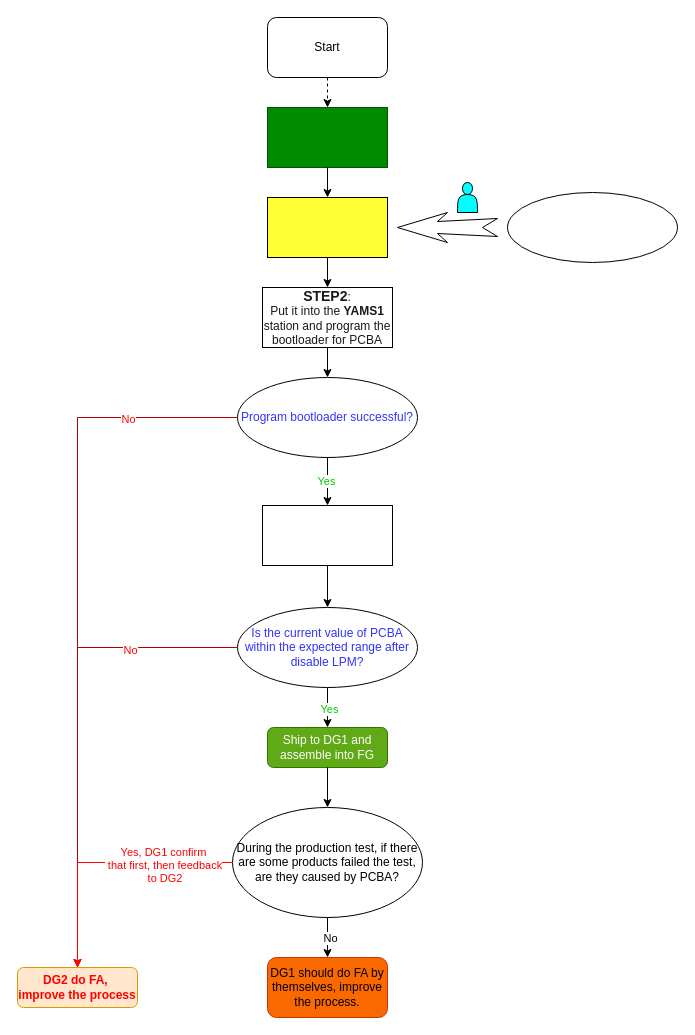
The diagram is 695 pixels wide and 1035 high, and some of its shapes have lost their labels. Here are the shapes that lost their labels. From the top down, the centre of each, then its label:
At point 327,137: "DG2 finished the AEC PCBA".
At point 327,227: "STEP1 : Operator assemble back shell and PCBA".
At point 592,227: "Pay attention to protect components during assembly to prevent damage".
At point 327,535: "STEP3 : Current Detect Tester".
